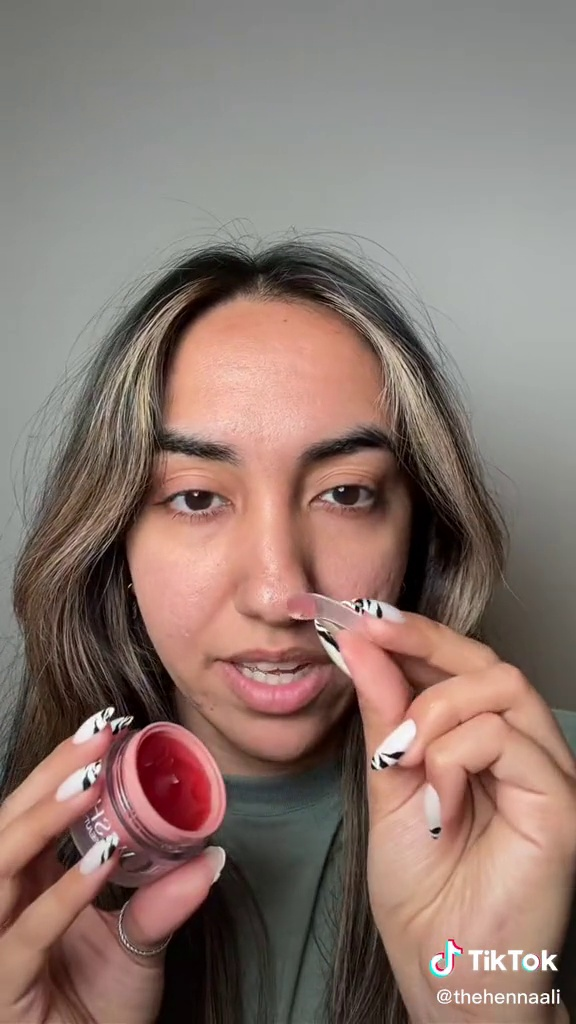train' :'yolo_data/train/images',: (65, 715, 234, 887)
